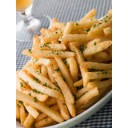frenchfries: (16, 9, 112, 124)
